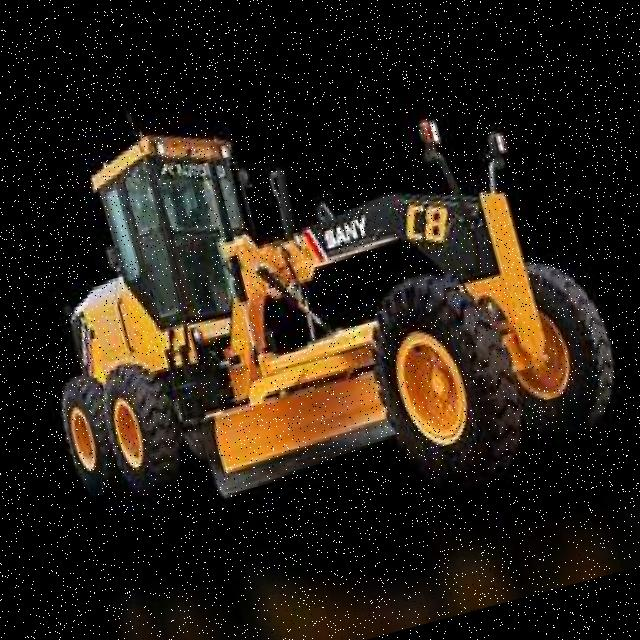Grader: (0, 31, 629, 573)
